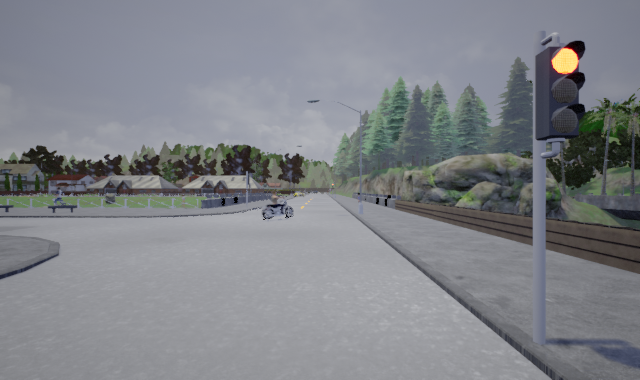motobike: (257, 193, 298, 221)
pedestrian: (51, 186, 66, 208)
